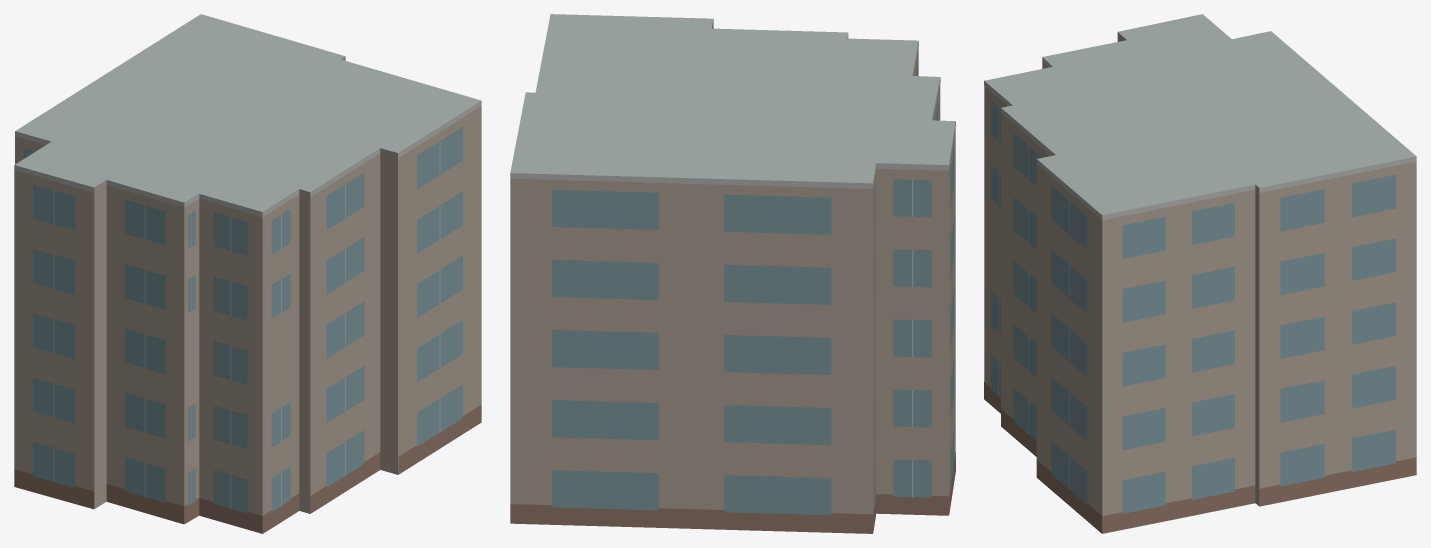
File: survey-upis-32678880.glb
3 views of the same model, side by side, from view 1: azimuth 30°, elevation 25°; view 2: azimuth 150°, elevation 25°; view 3: azimuth 270°, elevation 25° (orthographic). The views are drawn at different scales.
Parts seen in each view (by area): view 1: survey-upis-32678880.tmp; view 2: survey-upis-32678880.tmp; view 3: survey-upis-32678880.tmp.
Part boxes in pixels (<box>): survey-upis-32678880.tmp: <box>14,14,481,533</box>; survey-upis-32678880.tmp: <box>510,14,955,533</box>; survey-upis-32678880.tmp: <box>984,14,1416,533</box>.
Size of the model in its own units: 20.74 by 15.3 by 18.83.
